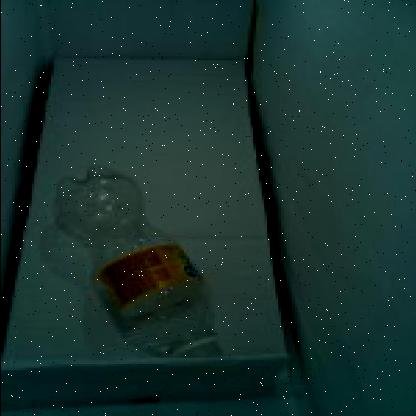Plastic Bottle: (56, 173, 220, 357)
